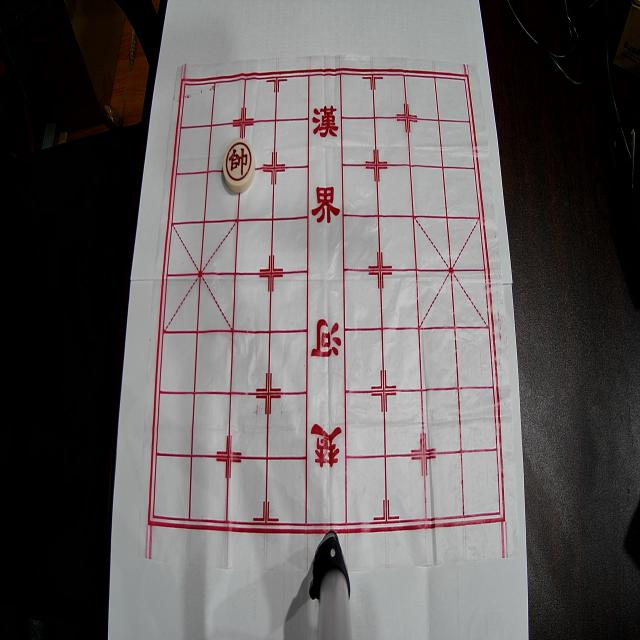red-general: (223, 139, 255, 193)
